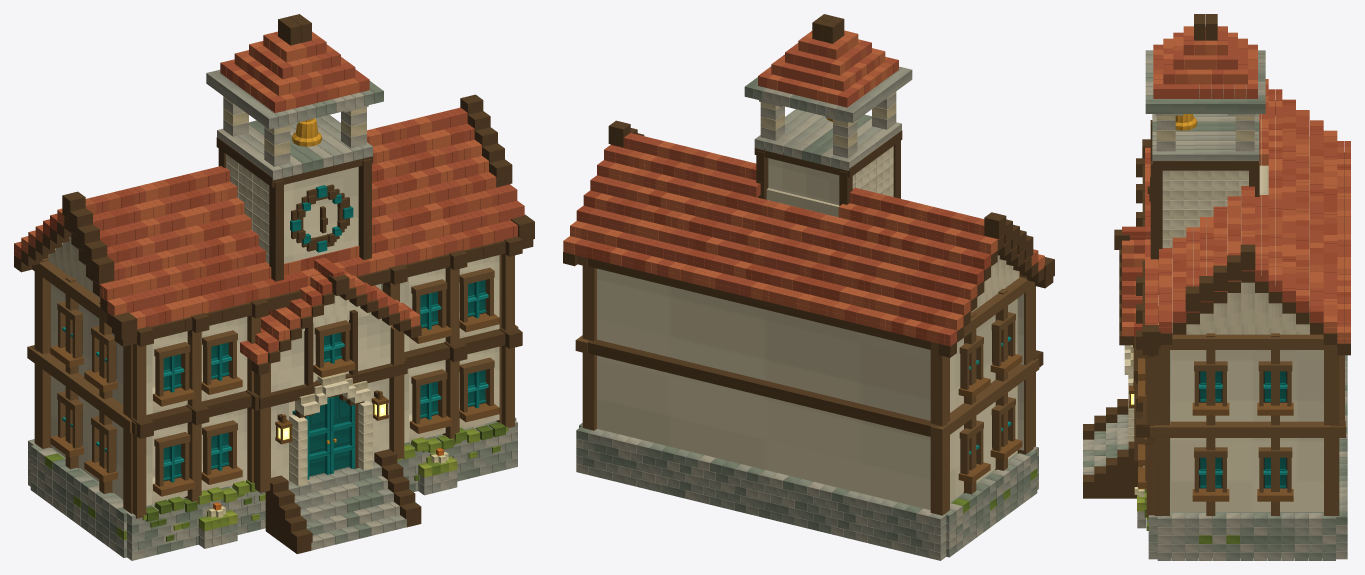
Rendered from SM_HP_CivicHall_LOD2.fbx.
The picture shows the model from 3 angles, left to right: view 1: azimuth 30°, elevation 25°; view 2: azimuth 150°, elevation 25°; view 3: azimuth 270°, elevation 25°; orthographic projection. The views are drawn at different scales.
Visible parts, largest first — view 1: SM_HP_CivicHall_LOD2; view 2: SM_HP_CivicHall_LOD2; view 3: SM_HP_CivicHall_LOD2.
Boxes of the visible parts, left/top/right/bottom form: SM_HP_CivicHall_LOD2: left=14, top=14, right=534, bottom=560; SM_HP_CivicHall_LOD2: left=563, top=14, right=1054, bottom=560; SM_HP_CivicHall_LOD2: left=1083, top=14, right=1350, bottom=560.
Bounding box in the file's own units: 798 × 468 × 869.
1 material, 1 textured.
